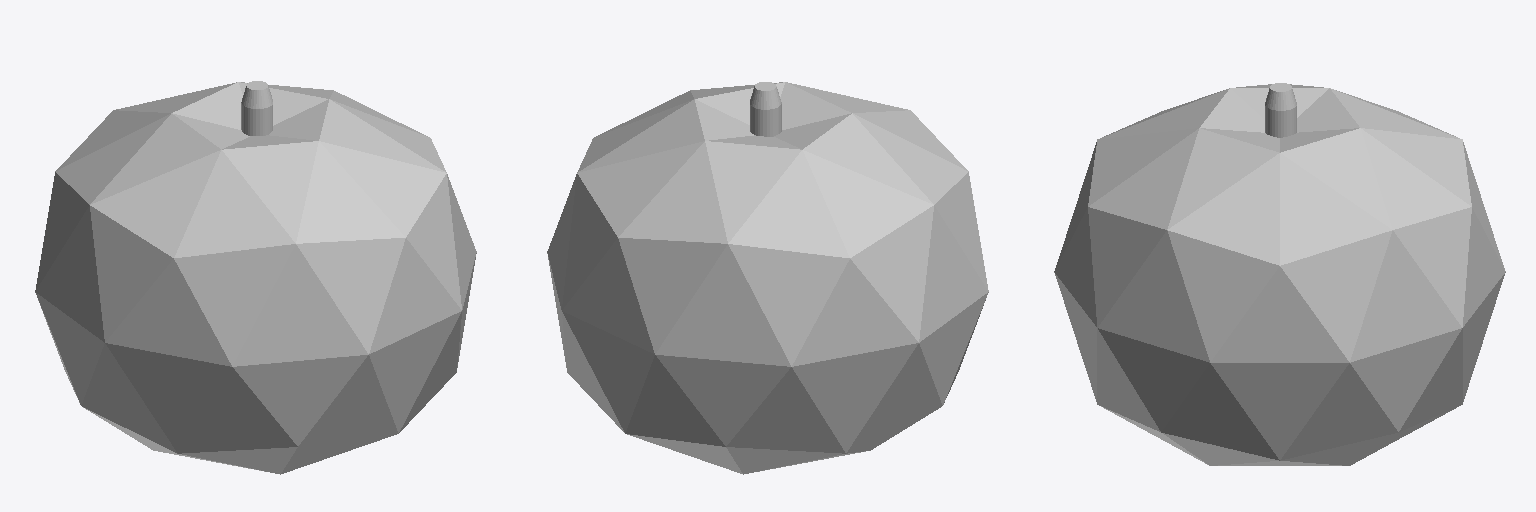
Rendered from Apple.obj.
3 views of the same model, side by side, from view 1: azimuth 30°, elevation 25°; view 2: azimuth 150°, elevation 25°; view 3: azimuth 270°, elevation 25° (orthographic).
Visible parts, largest first — view 1: Icosphere; view 2: Icosphere; view 3: Icosphere.
Boxes of the visible parts, <box> form: Icosphere: <box>35,81,476,474</box>; Icosphere: <box>547,82,988,474</box>; Icosphere: <box>1054,83,1505,465</box>.
Bounding box in the file's own units: 1.9 × 1.66 × 2.